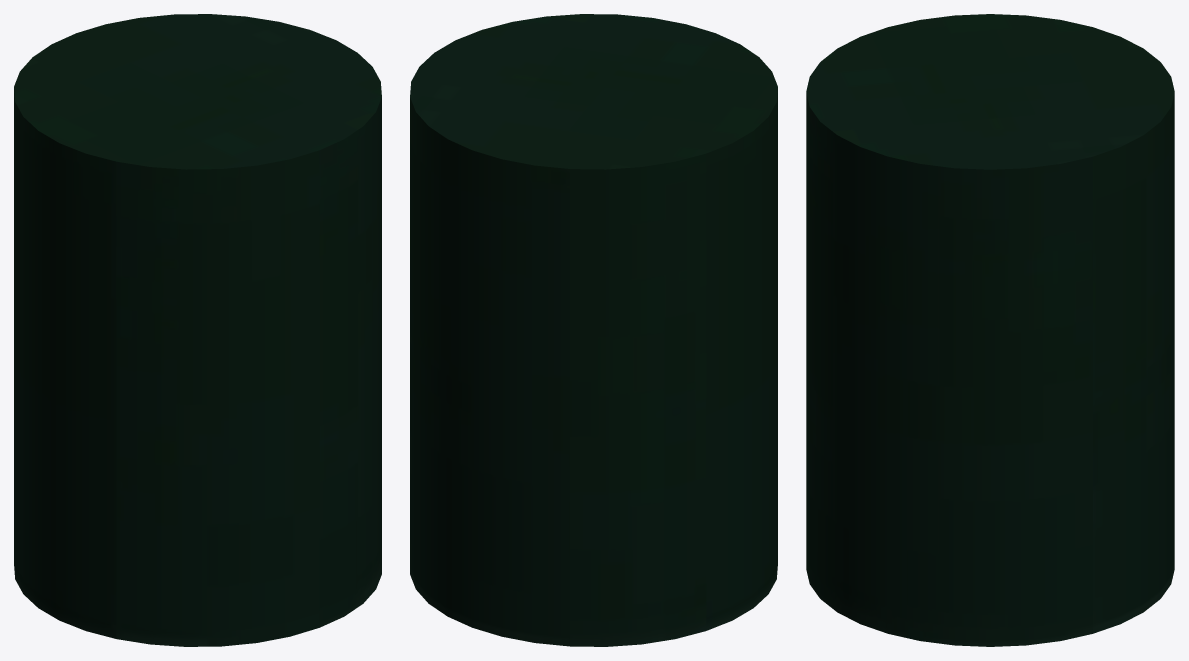
File: dial__dial_shaft.glb
The picture shows the model from 3 angles, left to right: view 1: azimuth 30°, elevation 25°; view 2: azimuth 150°, elevation 25°; view 3: azimuth 270°, elevation 25°; orthographic projection.
Visible parts, largest first — view 1: geometry_0; view 2: geometry_0; view 3: geometry_0.
Part boxes in pixels (<box>): geometry_0: <box>14,14,381,646</box>; geometry_0: <box>410,14,777,646</box>; geometry_0: <box>806,14,1174,646</box>.
Bounding box in the file's own units: 0.0084 × 0.012 × 0.0084.
Materials: 1 (1 with a texture image).
